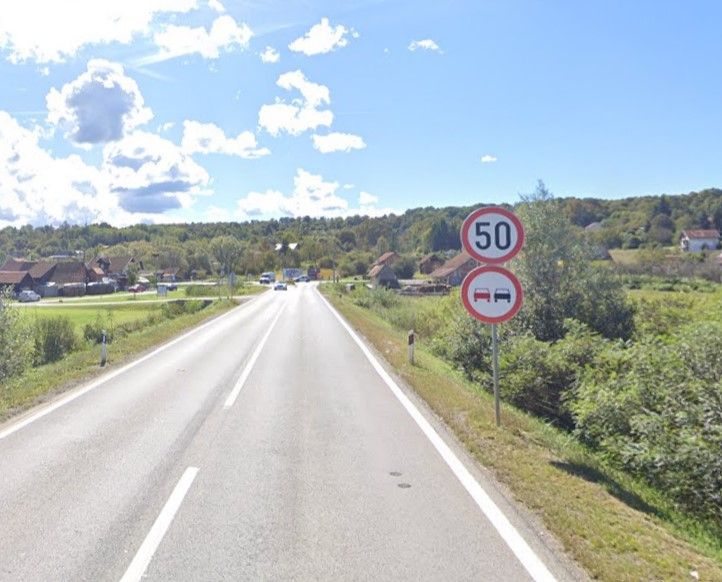Ograničenje brzine 50: (461, 207, 524, 264)
Zabrana pretjecanja: (461, 265, 523, 323)
